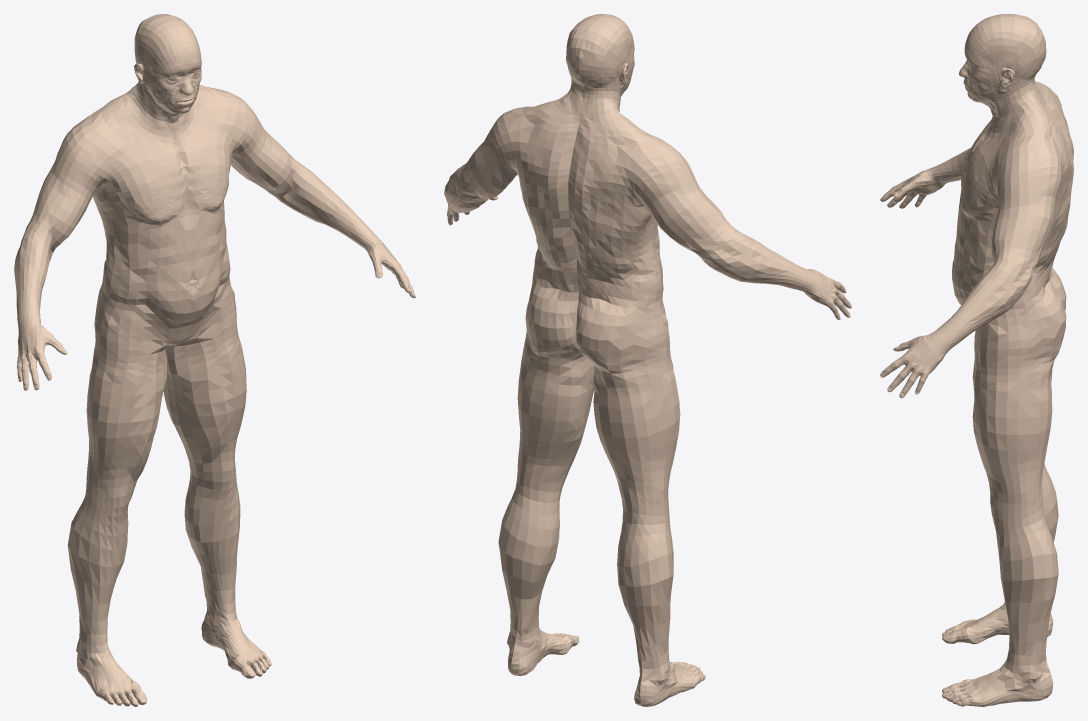
The model's file is male-older-max-high.glb.
3 renders of one model, left to right at view 1: azimuth 30°, elevation 25°; view 2: azimuth 150°, elevation 25°; view 3: azimuth 270°, elevation 25°, orthographic.
Parts seen in each view (by area): view 1: world; view 2: world; view 3: world.
Part boxes in pixels (left/top/right/bottom): world: left=14, top=14, right=415, bottom=706; world: left=444, top=14, right=851, bottom=706; world: left=880, top=14, right=1073, bottom=706.
Bounding box in the file's own units: 1.26 × 2.01 × 0.5418.
